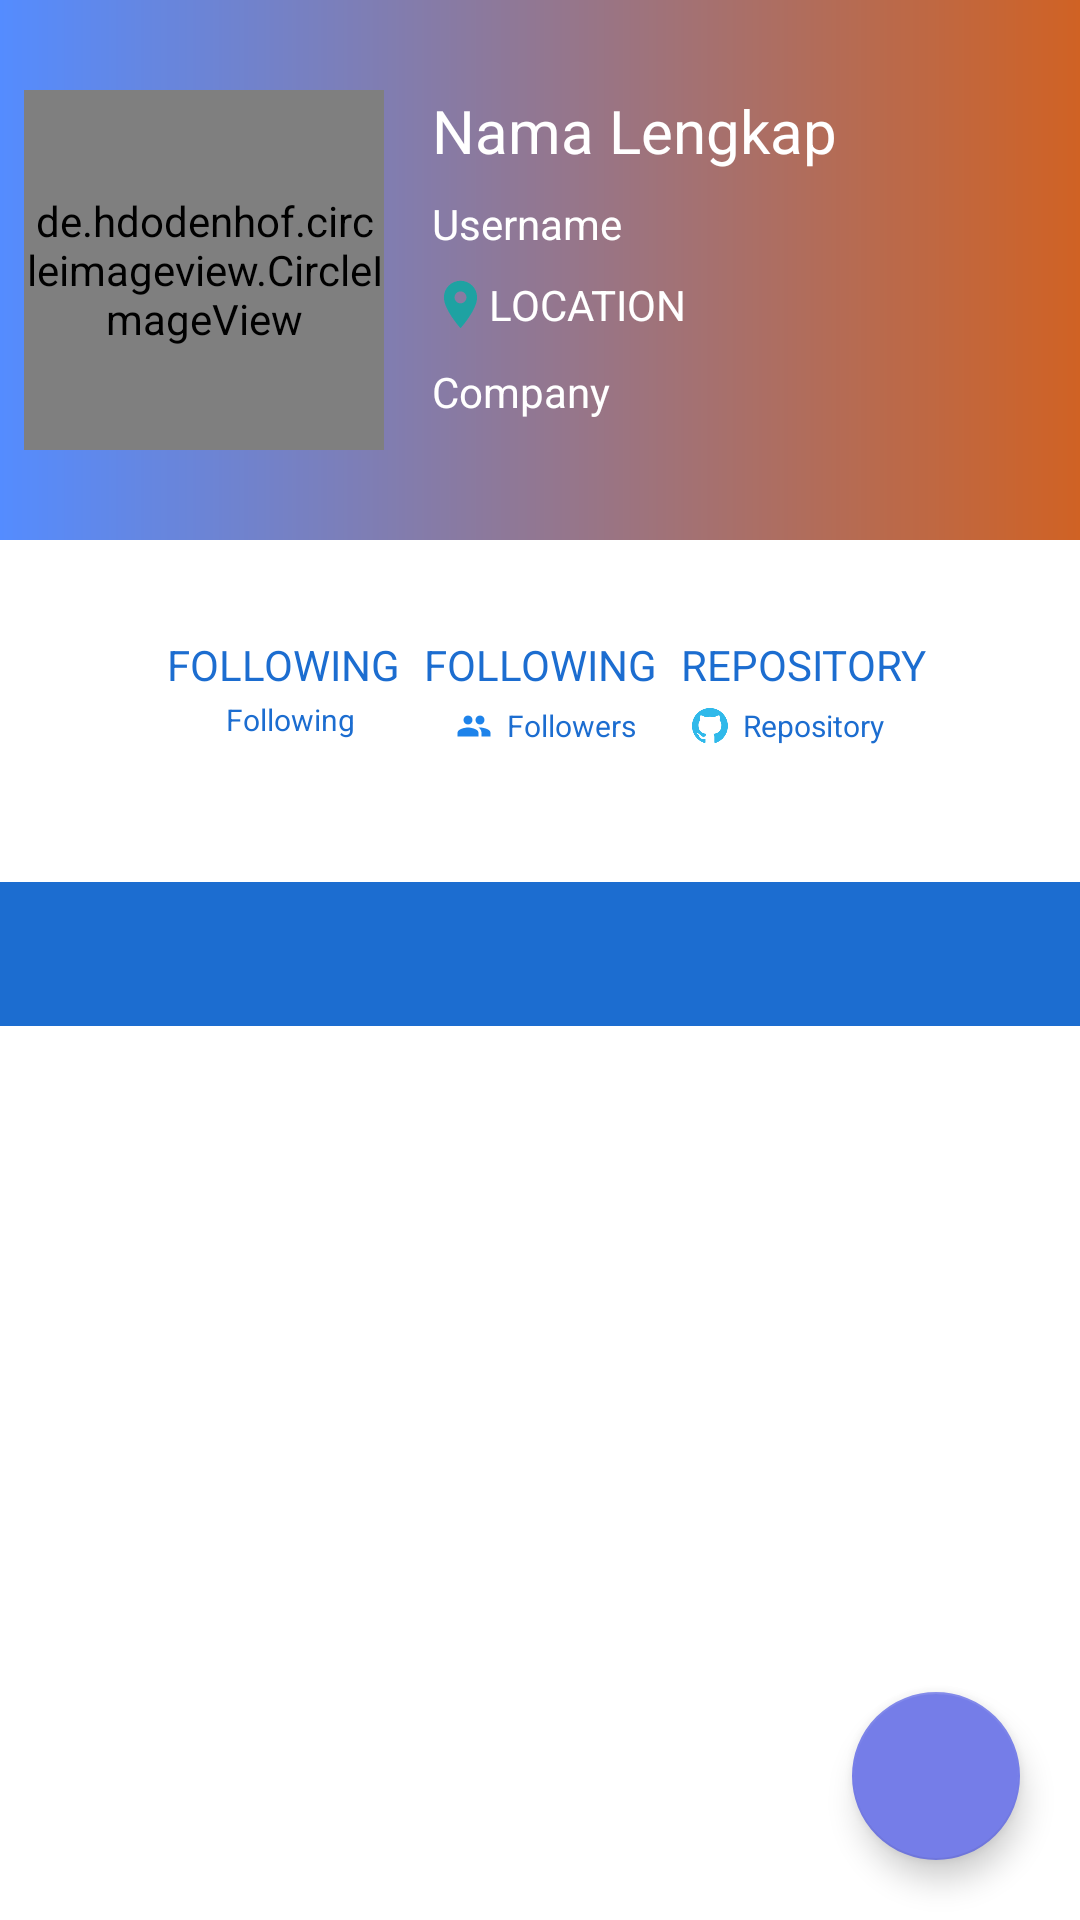

Icons on this 1080 x 1920 Android screen, each with its box as (x1, y1, x2, y2):
people: (457, 715, 491, 737)
